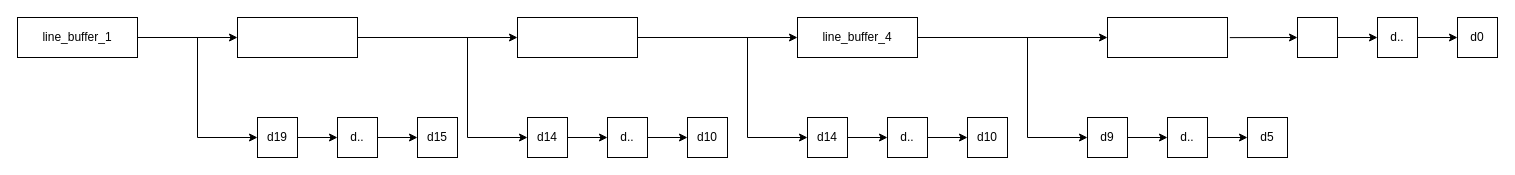
This 1515x175 diagram has some shape labels left out. Each missing label, with the box of its shape:
d4: (1296, 16, 1338, 58)
line_buffer_2: (236, 16, 358, 58)
line_buffer_3: (516, 16, 638, 58)
line_buffer_5: (1106, 16, 1228, 58)
